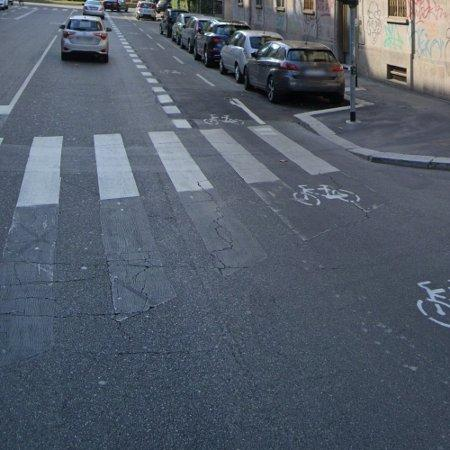crosswalks: (17, 122, 339, 207)
